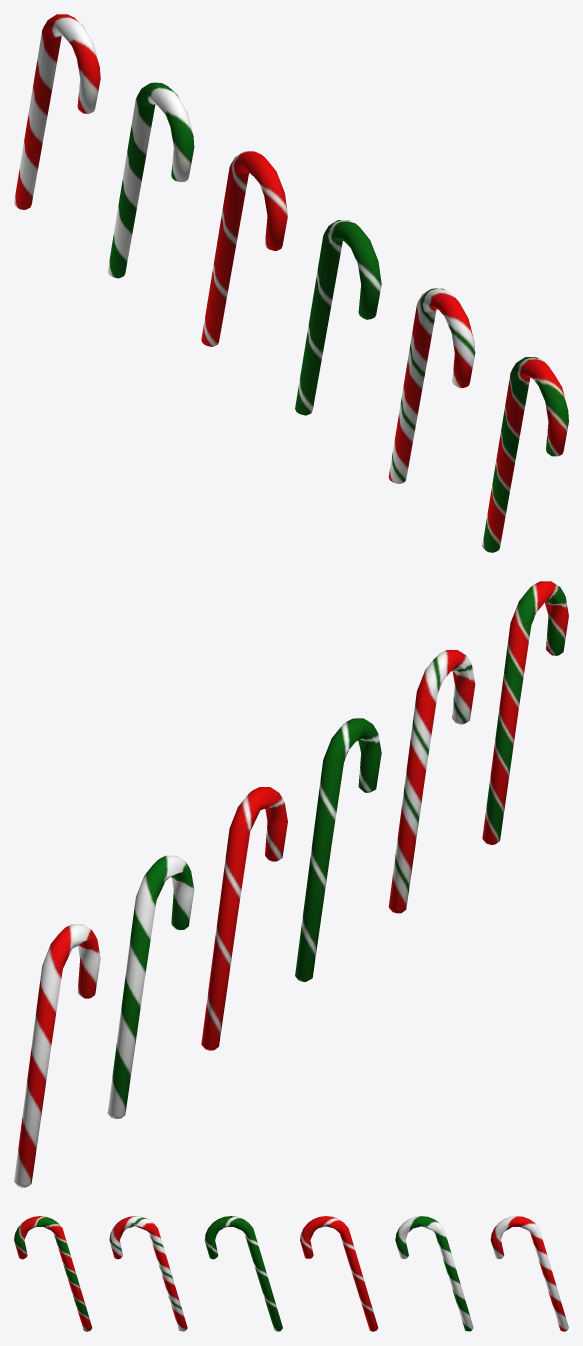
The model's file is sucres.glb.
3 renders of one model, top to bottom at view 1: azimuth 30°, elevation 25°; view 2: azimuth 150°, elevation 25°; view 3: azimuth 270°, elevation 25°, orthographic. The views are drawn at different scales.
Visible parts, largest first — view 1: Christmas_Candy_Cane_02_Christmas_Candy_Canes_0; view 2: Christmas_Candy_Cane_02_Christmas_Candy_Canes_0; view 3: Christmas_Candy_Cane_02_Christmas_Candy_Canes_0.
Part boxes in pixels (x1,y1,x2,y2): Christmas_Candy_Cane_02_Christmas_Candy_Canes_0: (14,14,568,552); Christmas_Candy_Cane_02_Christmas_Candy_Canes_0: (14,581,568,1187); Christmas_Candy_Cane_02_Christmas_Candy_Canes_0: (14,1216,568,1331).
Size of the model in its own units: 0.00998 by 0.1213 by 0.5314.
Materials: 1 (1 with a texture image).
